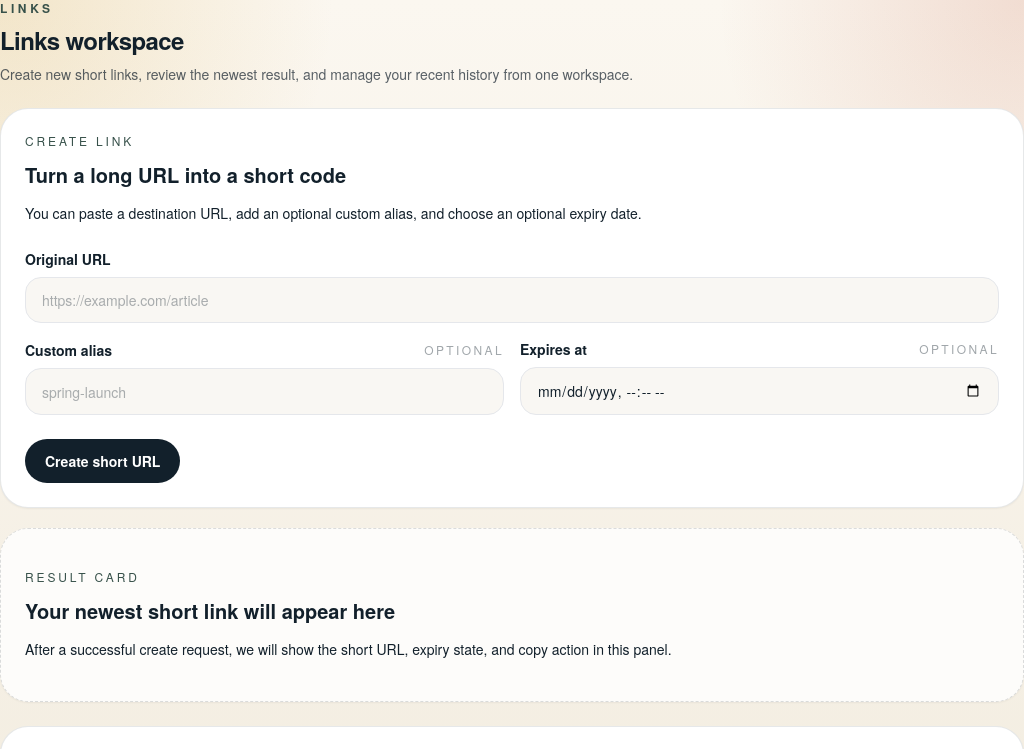
it: LinksPage › copies the newest short url and shows feedback
Type "https://example.com/spring-launch" into the field labelled "Original URL". click: (512, 300)
box: [25,277,999,323]
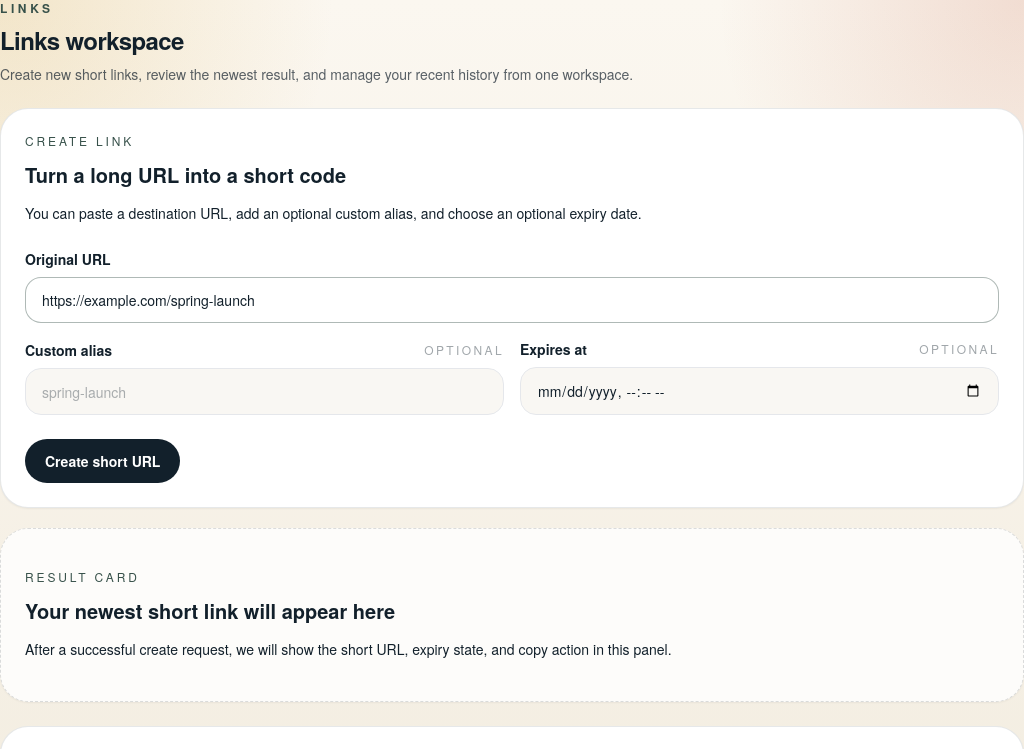
Click the button "Create short URL". click: (103, 461)
box: [25,439,180,483]
(page scrolled)
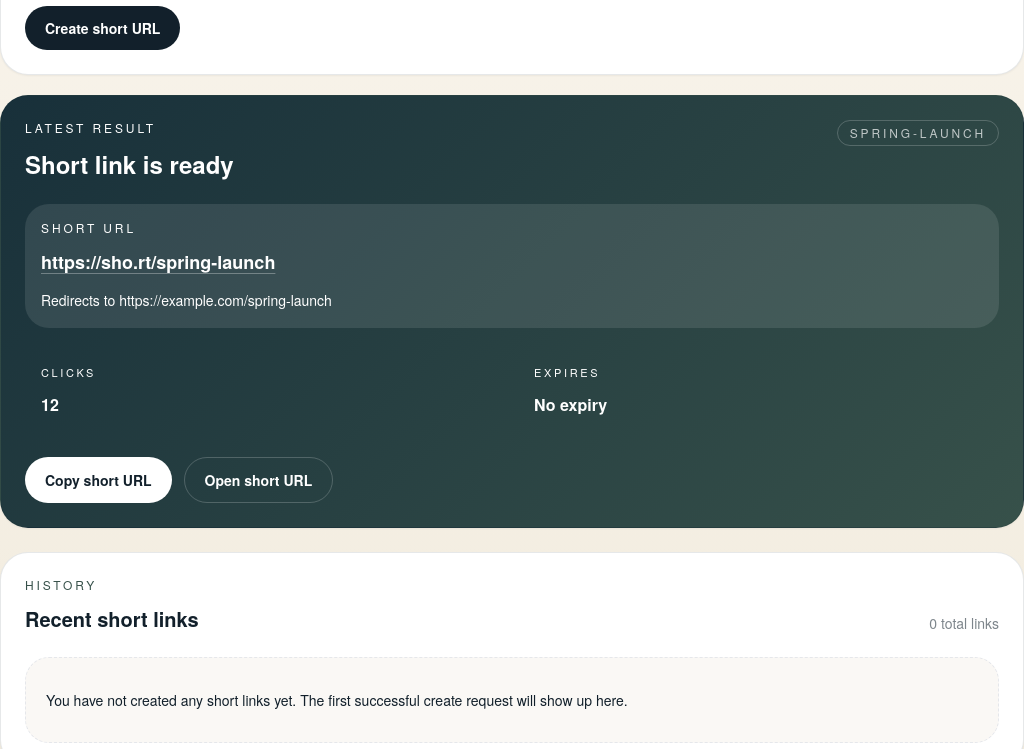
Now the button "Copy short URL" is shown
Click the button "Copy short URL". click: (98, 480)
box: [25,456,172,502]
(page scrolled)
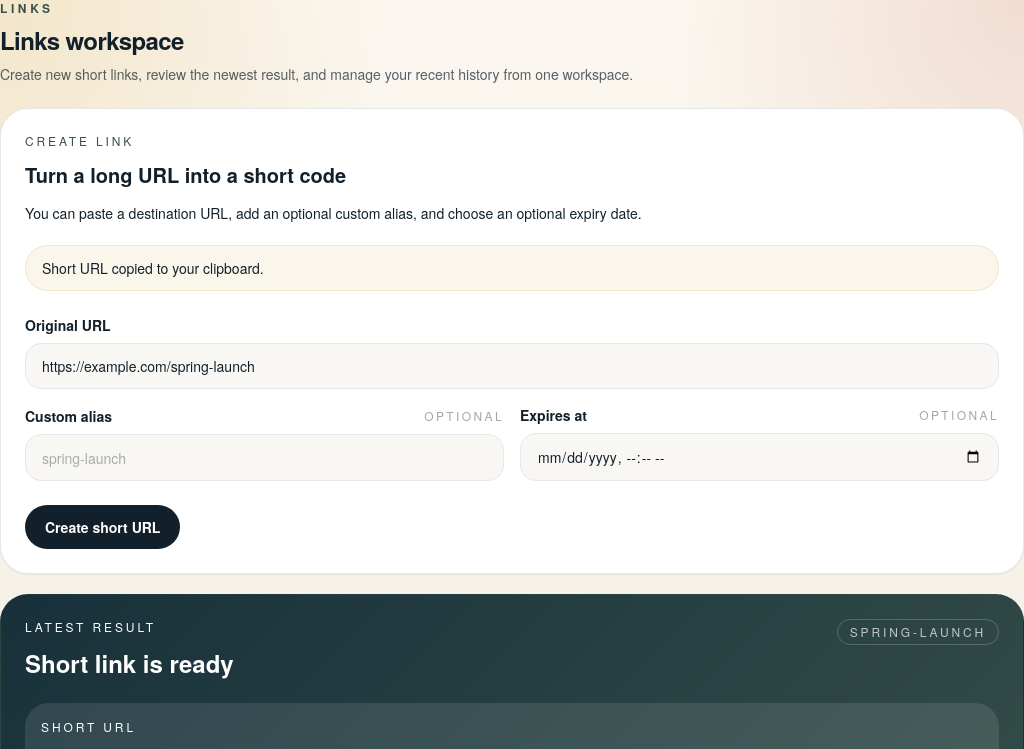
Now the text "Short URL copied to your clipboard." is shown, box [25,245,999,291]
